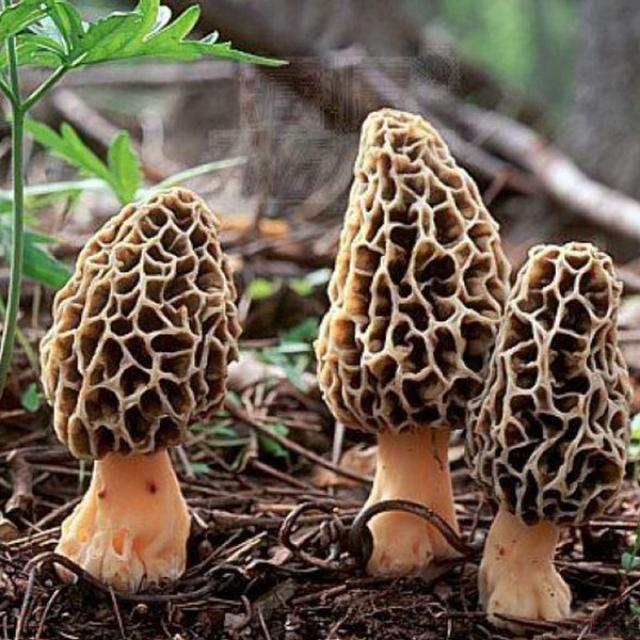Morchella esculenta: (319, 111, 507, 571), (38, 191, 240, 589), (467, 242, 629, 622)
